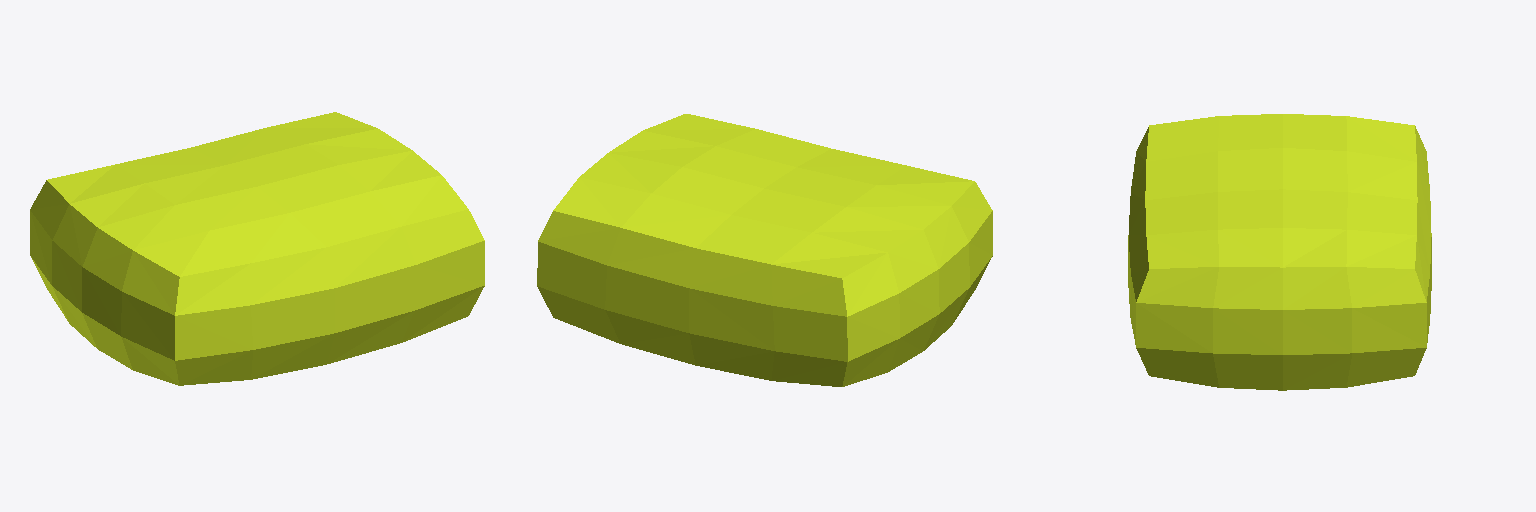
File: soap.obj
3 views of the same model, side by side, from view 1: azimuth 30°, elevation 25°; view 2: azimuth 150°, elevation 25°; view 3: azimuth 270°, elevation 25° (orthographic).
Bounding box in the file's own units: 0.8342 × 0.3198 × 0.6348.